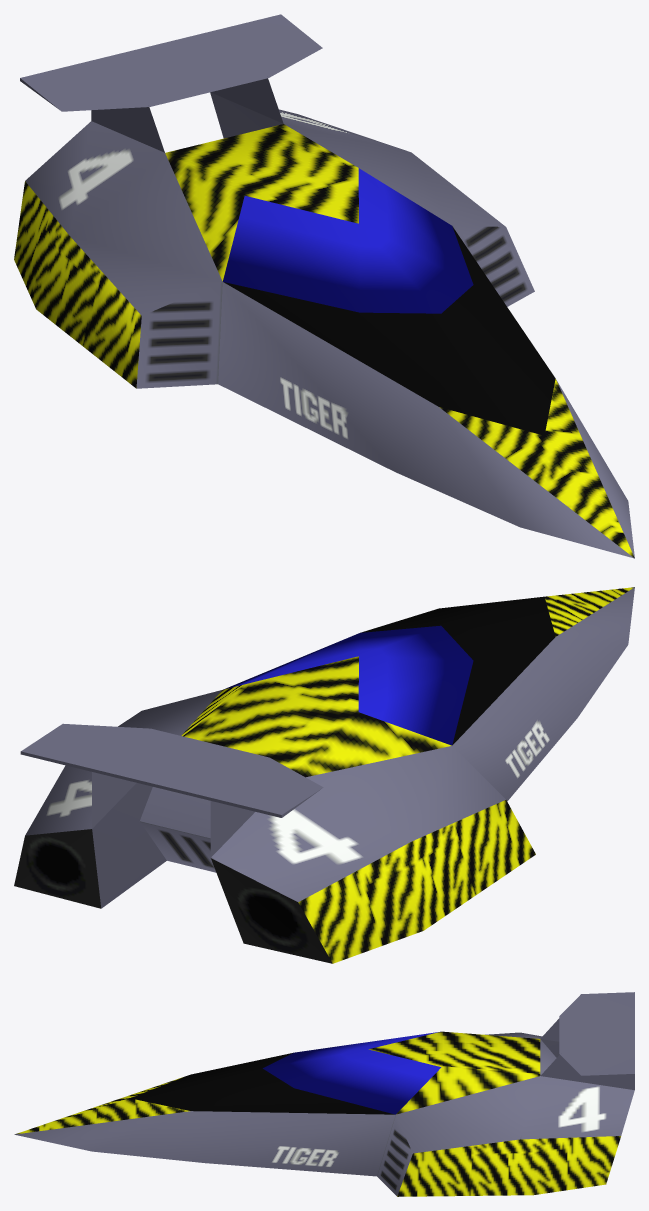
3 views of the same model, one above another, from view 1: azimuth 30°, elevation 25°; view 2: azimuth 150°, elevation 25°; view 3: azimuth 270°, elevation 25° (orthographic). The views are drawn at different scales.
Visible parts, largest first — view 1: Joint_0_Object_0; view 2: Joint_0_Object_0; view 3: Joint_0_Object_0.
Boxes of the visible parts, bbox=[...] form: Joint_0_Object_0: bbox=[14, 14, 634, 558]; Joint_0_Object_0: bbox=[14, 587, 634, 963]; Joint_0_Object_0: bbox=[14, 992, 634, 1196].
Bounding box in the file's own units: 33.59 × 12.75 × 70.67.
1 material, 1 textured.
